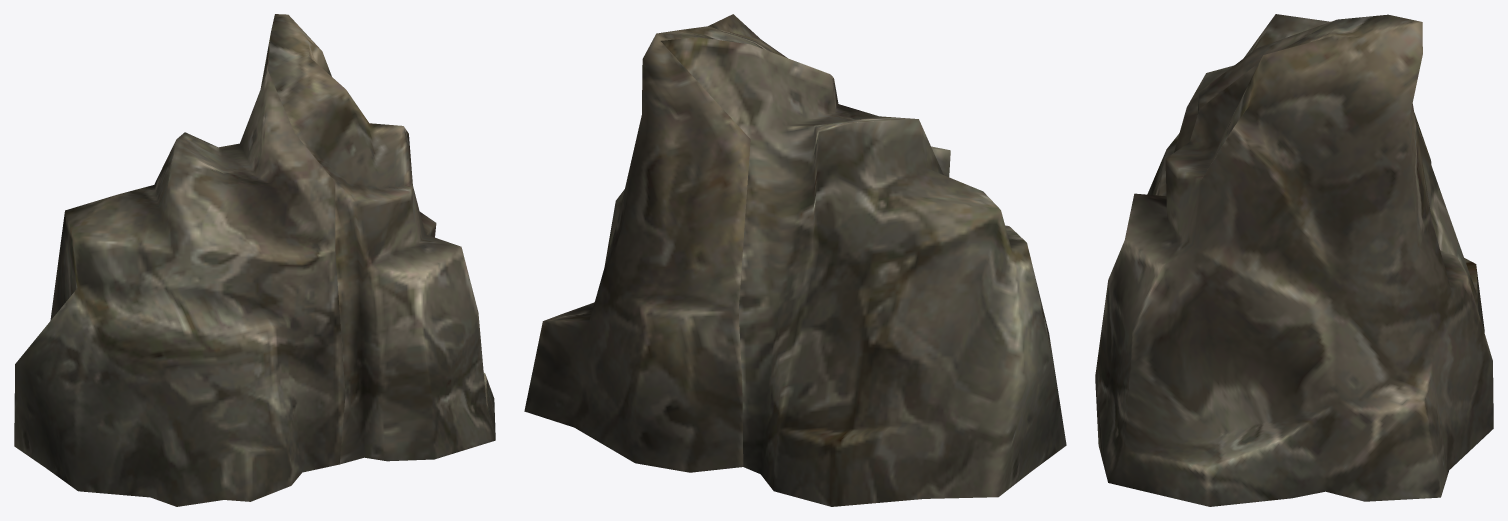
File: stone_059.FBX
3 views of the same model, side by side, from view 1: azimuth 30°, elevation 25°; view 2: azimuth 150°, elevation 25°; view 3: azimuth 270°, elevation 25° (orthographic). The views are drawn at different scales.
Visible parts, largest first — view 1: stone_059_01; view 2: stone_059_01; view 3: stone_059_01.
Boxes of the visible parts, x1,y1,x2,y2 form: stone_059_01: [14, 14, 495, 506]; stone_059_01: [524, 14, 1066, 506]; stone_059_01: [1095, 14, 1493, 506].
Bounding box in the file's own units: 8.33 × 6.65 × 5.82.
